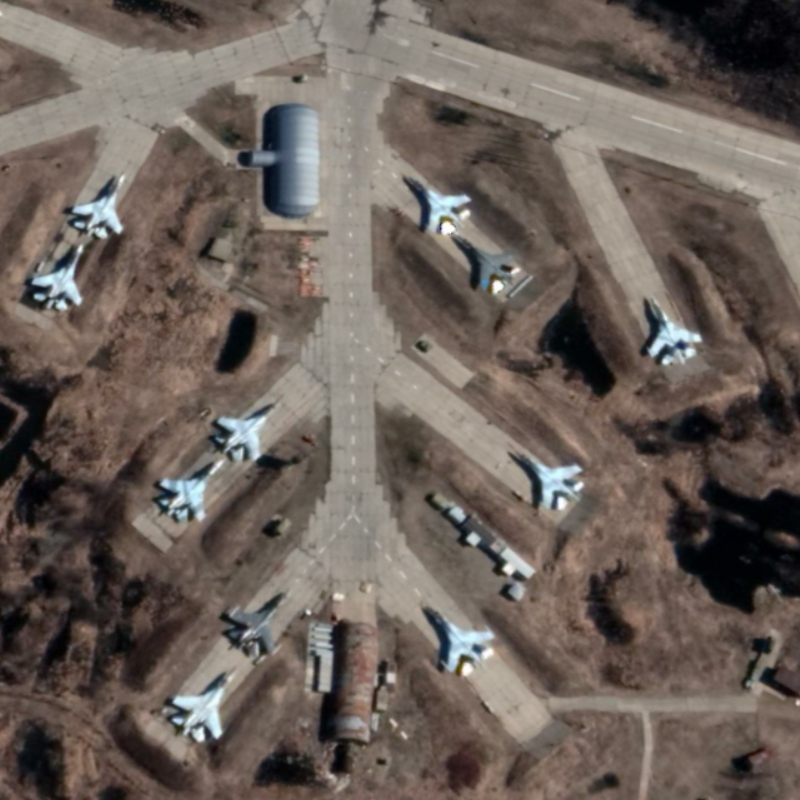A1: (168, 665, 241, 744), (509, 442, 587, 513), (212, 393, 288, 464), (155, 456, 227, 524), (451, 230, 522, 297), (225, 590, 292, 661), (431, 608, 498, 678), (644, 293, 706, 368), (406, 174, 473, 238), (29, 241, 85, 312), (70, 171, 127, 240)
